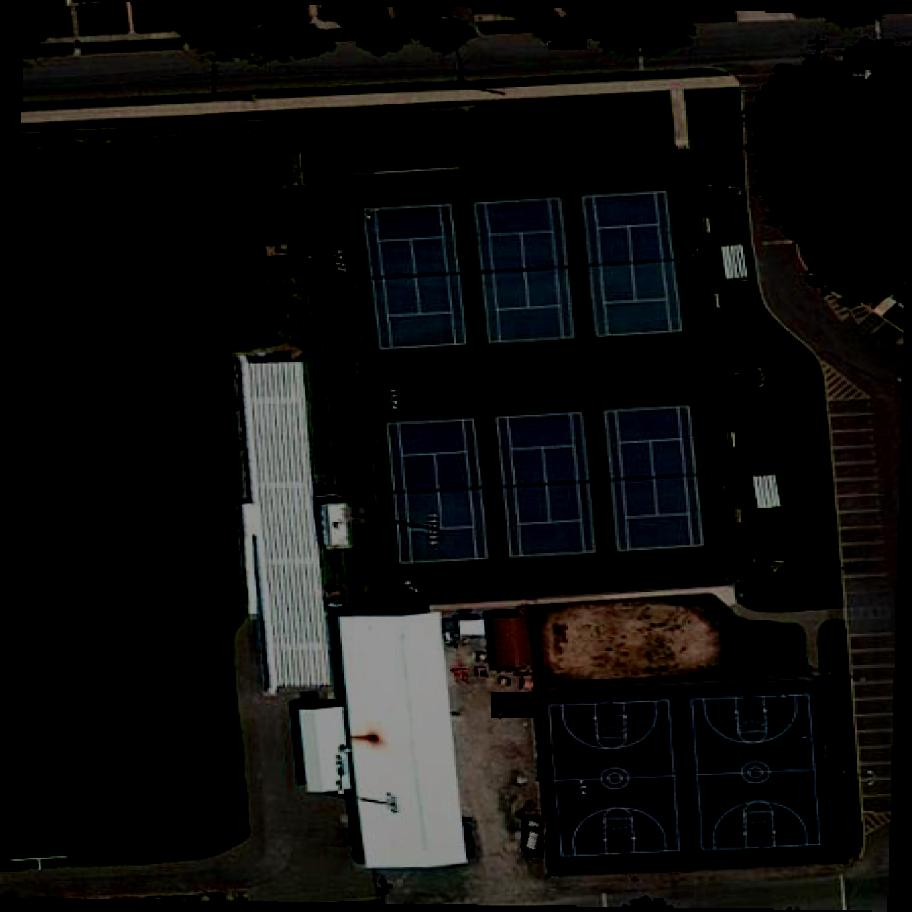small-vehicle: (491, 692, 536, 725), (548, 26, 590, 52), (523, 818, 544, 858)
